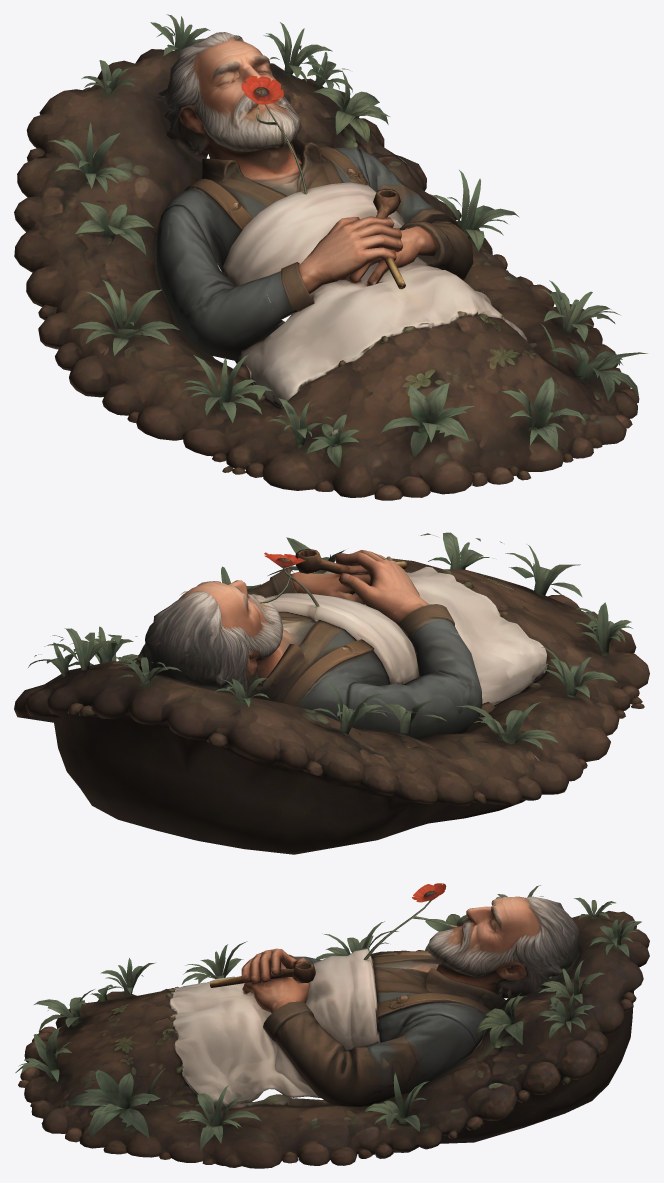
The model's file is act1-a20-2-sleeper-old-man.glb.
3 views of the same model, one above another, from view 1: azimuth 30°, elevation 25°; view 2: azimuth 150°, elevation 25°; view 3: azimuth 270°, elevation 25° (orthographic). The views are drawn at different scales.
Parts seen in each view (by area): view 1: act1-a20-2-sleeper-old-man; view 2: act1-a20-2-sleeper-old-man; view 3: act1-a20-2-sleeper-old-man.
Part boxes in pixels (left/top/right/bottom): act1-a20-2-sleeper-old-man: left=14, top=14, right=647, bottom=500; act1-a20-2-sleeper-old-man: left=14, top=532, right=649, bottom=854; act1-a20-2-sleeper-old-man: left=15, top=883, right=649, bottom=1168.
Bounding box in the file's own units: 1.51 × 0.6924 × 2.1.
Materials: 1 (1 with a texture image).
